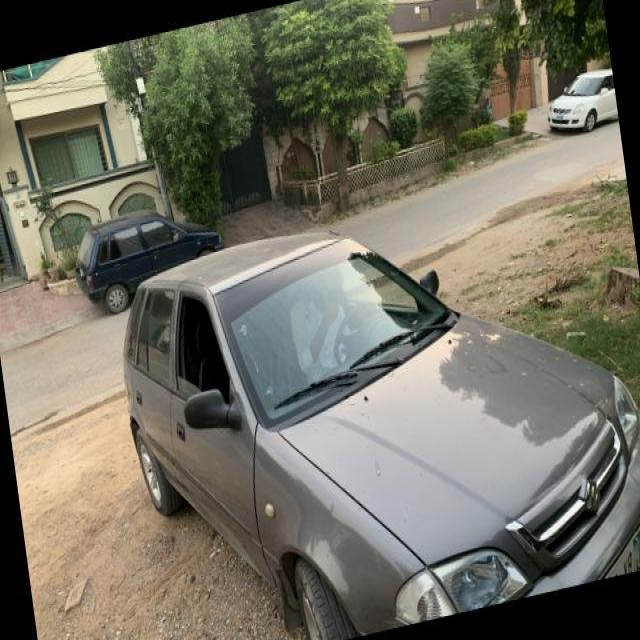no-seatbelt: (286, 315, 376, 371)
